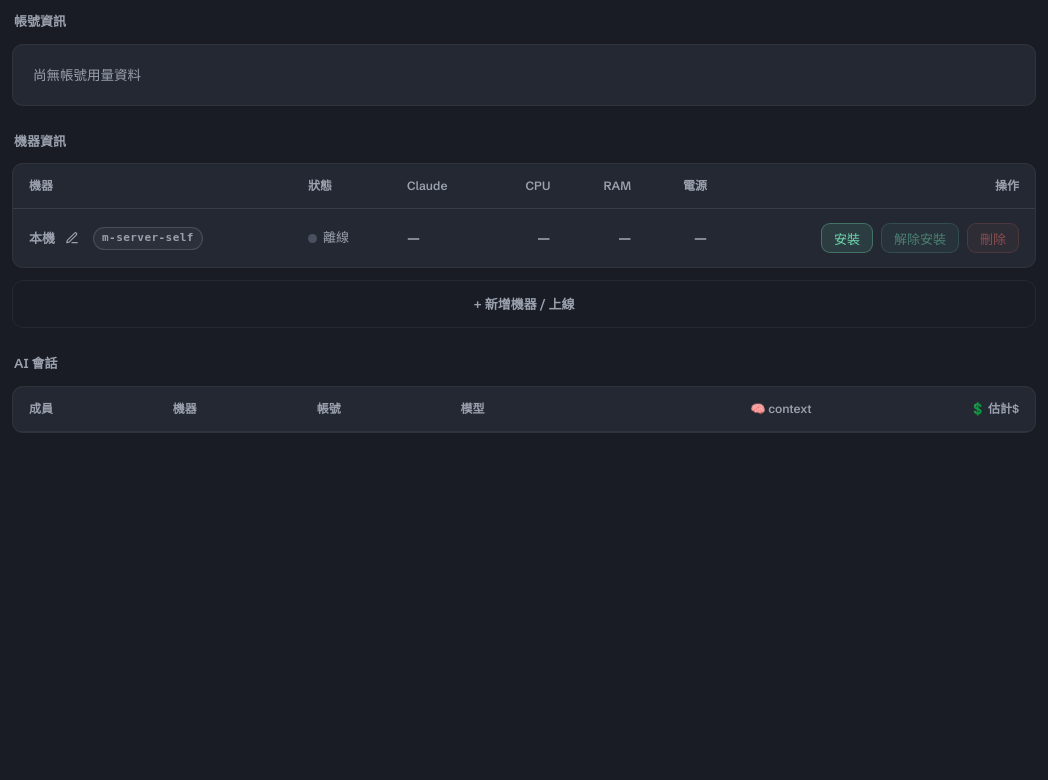
MonitorPage bootstrap-on-server error surface › keeps the generic message when the rejection carries no envelope detail
Step 1. Click the button with test id "mon-install-btn" → (847, 238), box [821,223,873,253]
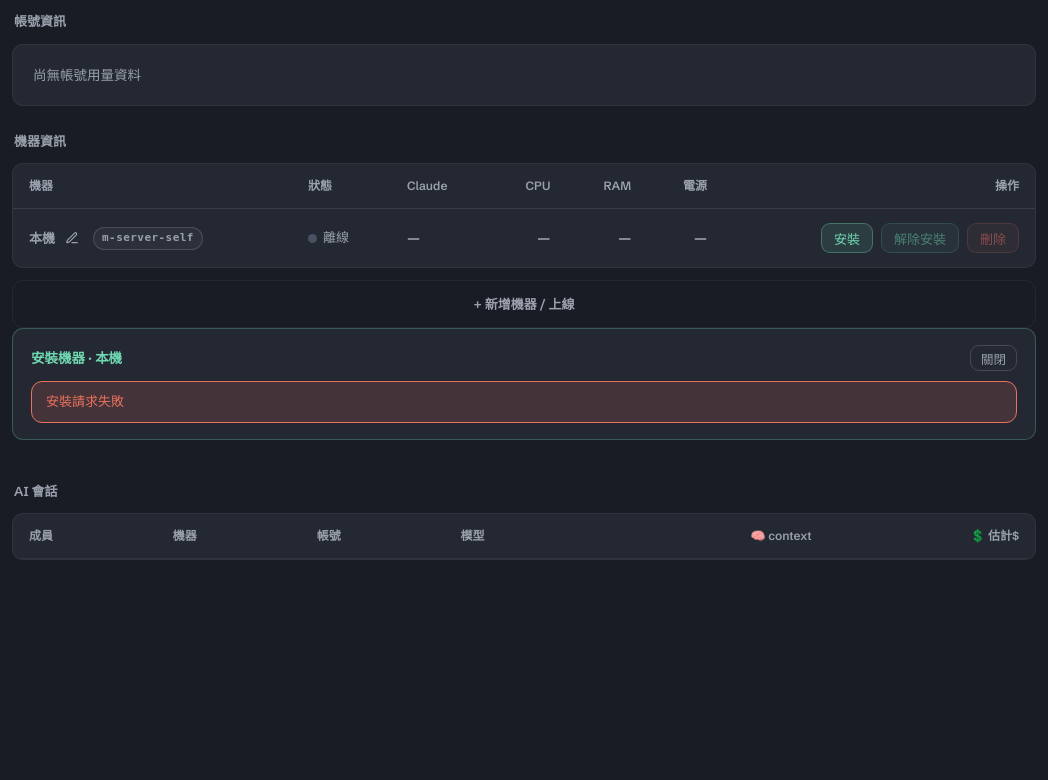
expect the text "安裝請求失敗" is shown: met, box [31,381,1017,423]
